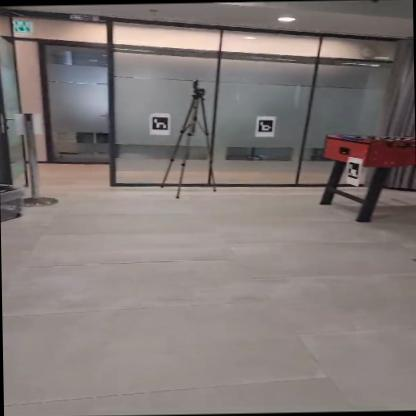open: (14, 38, 116, 189)
